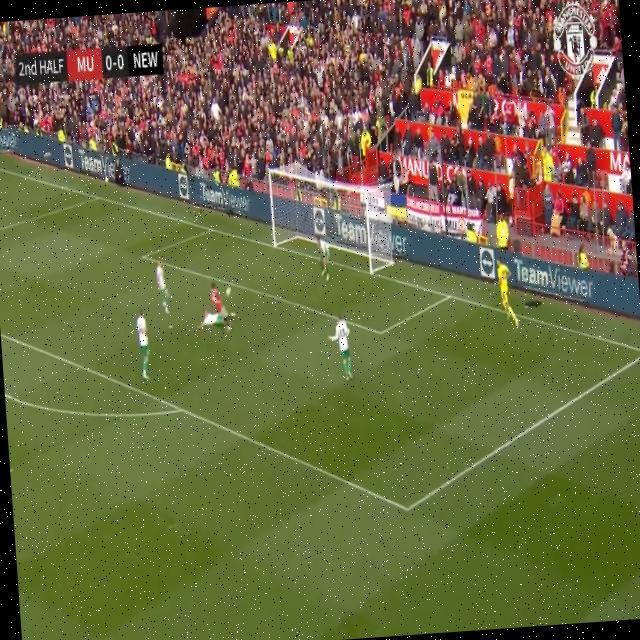TeamViewer: (480, 241, 594, 309), (313, 200, 407, 262), (178, 169, 252, 221), (63, 138, 130, 190), (0, 130, 18, 152)
